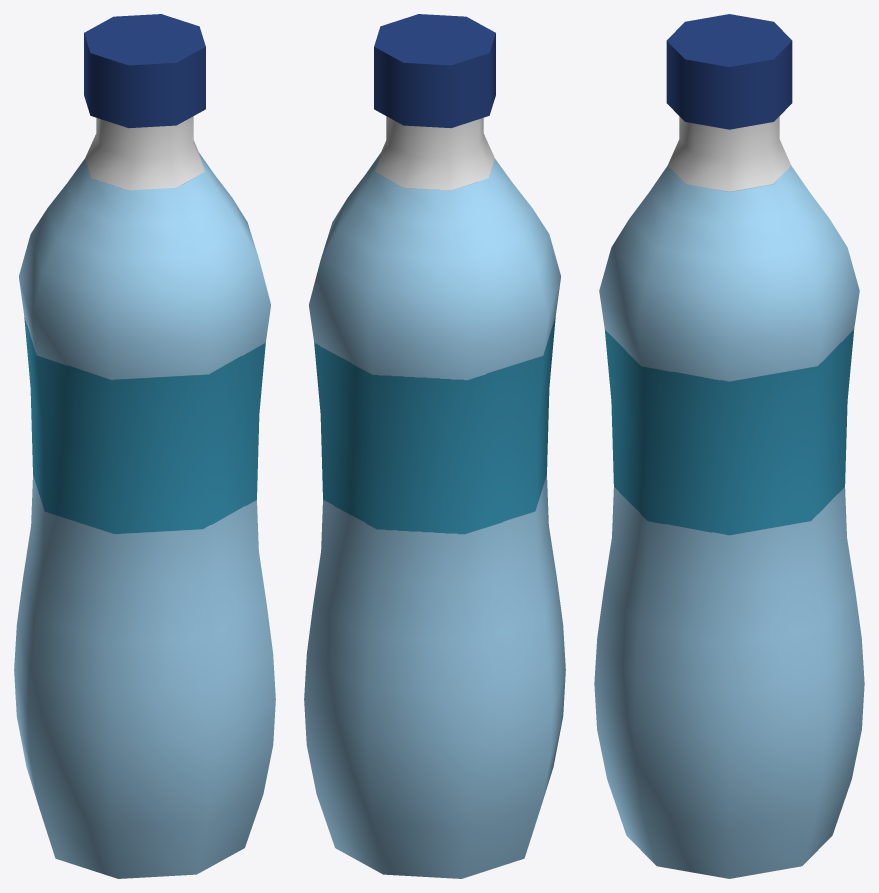
The model's file is water-bottle.fbx.
3 renders of one model, left to right at view 1: azimuth 30°, elevation 25°; view 2: azimuth 150°, elevation 25°; view 3: azimuth 270°, elevation 25°, orthographic.
Visible parts, largest first — view 1: water bottle; view 2: water bottle; view 3: water bottle.
Part boxes in pixels (bbox=[...]): water bottle: bbox=[14, 14, 275, 878]; water bottle: bbox=[304, 14, 565, 878]; water bottle: bbox=[594, 14, 864, 878].
Size of the model in its own units: 6.82 by 22.13 by 6.82.
Materials: 3 (2 with a texture image).
